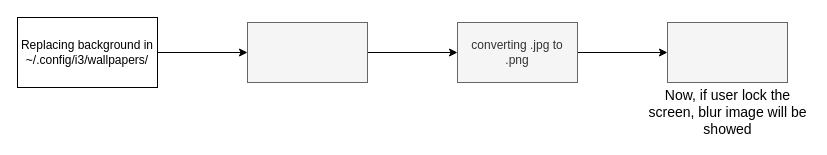
The diagram is 827 pixels wide and 155 high, and some of its shapes have lost their labels. Here are the shapes that lost their labels. From the top down, the centre of each, then its label:
[307,52]: starting lockscreen script
[727,52]: bluring .png copy
